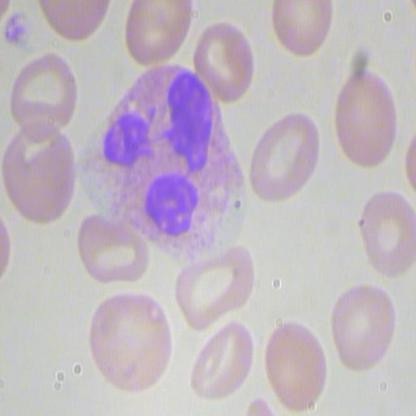RBC: (246, 102, 331, 208), (322, 64, 407, 170), (88, 287, 172, 392), (1, 121, 77, 226), (168, 244, 258, 330), (7, 45, 83, 138), (260, 314, 331, 412), (186, 316, 257, 414), (328, 279, 399, 376), (72, 209, 150, 288), (349, 189, 415, 280), (193, 17, 254, 106), (124, 1, 190, 67), (269, 1, 335, 67)
WBC: (83, 58, 267, 257)
